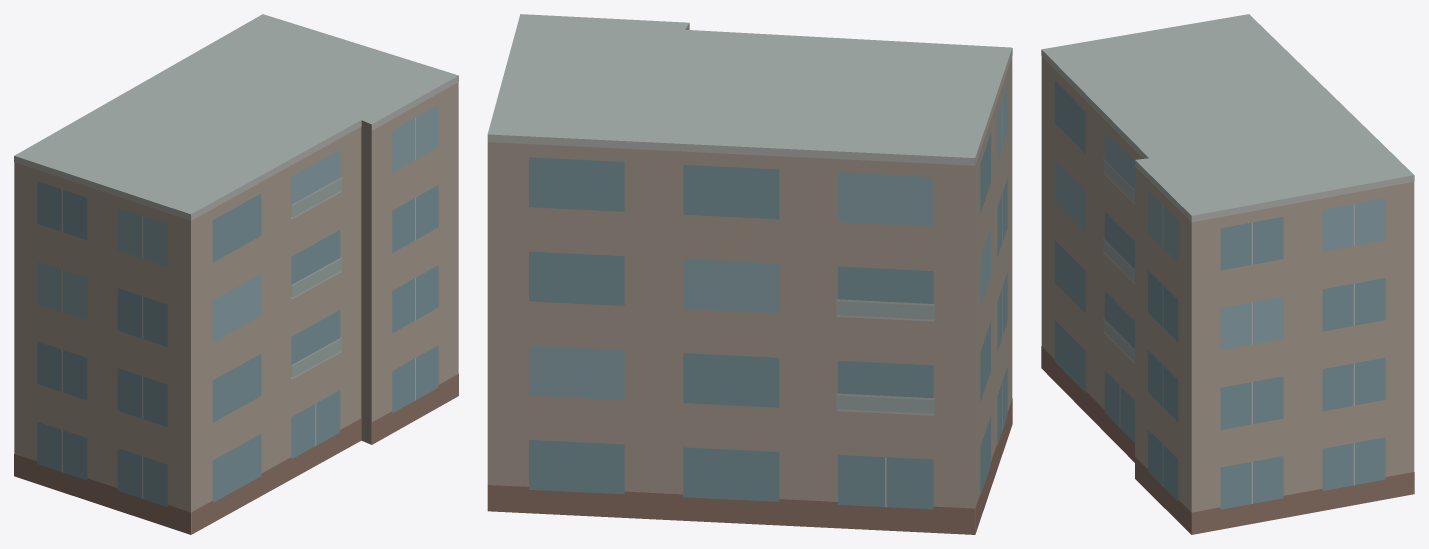
The model's file is survey-upis-32853836.glb.
The picture shows the model from 3 angles, left to right: view 1: azimuth 30°, elevation 25°; view 2: azimuth 150°, elevation 25°; view 3: azimuth 270°, elevation 25°; orthographic projection. The views are drawn at different scales.
Parts seen in each view (by area): view 1: survey-upis-32853836.tmp; view 2: survey-upis-32853836.tmp; view 3: survey-upis-32853836.tmp.
Boxes of the visible parts, bbox=[...] form: survey-upis-32853836.tmp: bbox=[14, 14, 458, 534]; survey-upis-32853836.tmp: bbox=[487, 14, 1012, 534]; survey-upis-32853836.tmp: bbox=[1041, 14, 1414, 534].
Size of the model in its own units: 16.3 by 12 by 12.73.
